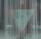Give way: (3, 1, 40, 37)
